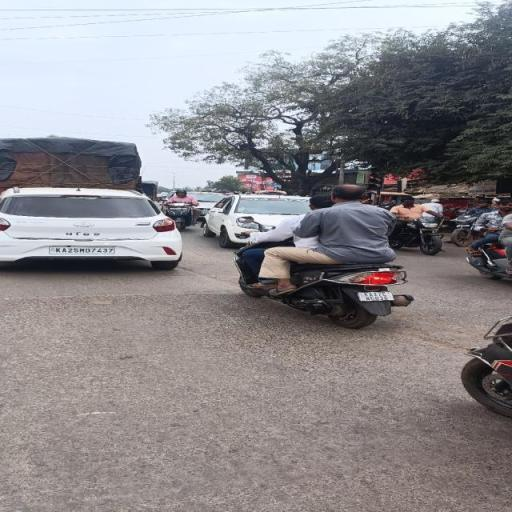bike: (231, 182, 415, 330)
numberplate: (357, 290, 395, 302)
withouthelmet: (332, 185, 366, 203), (308, 196, 331, 210)
